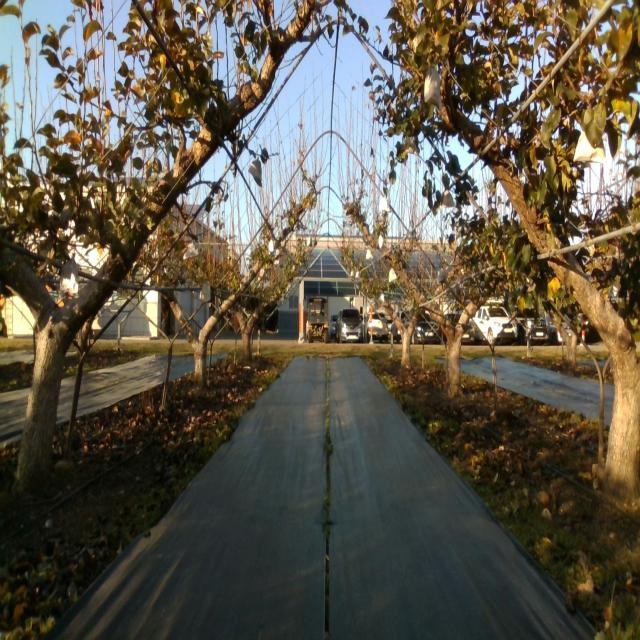pearbags: (573, 128, 605, 162), (424, 64, 443, 110), (58, 260, 79, 296), (248, 157, 263, 187), (440, 189, 454, 209)
